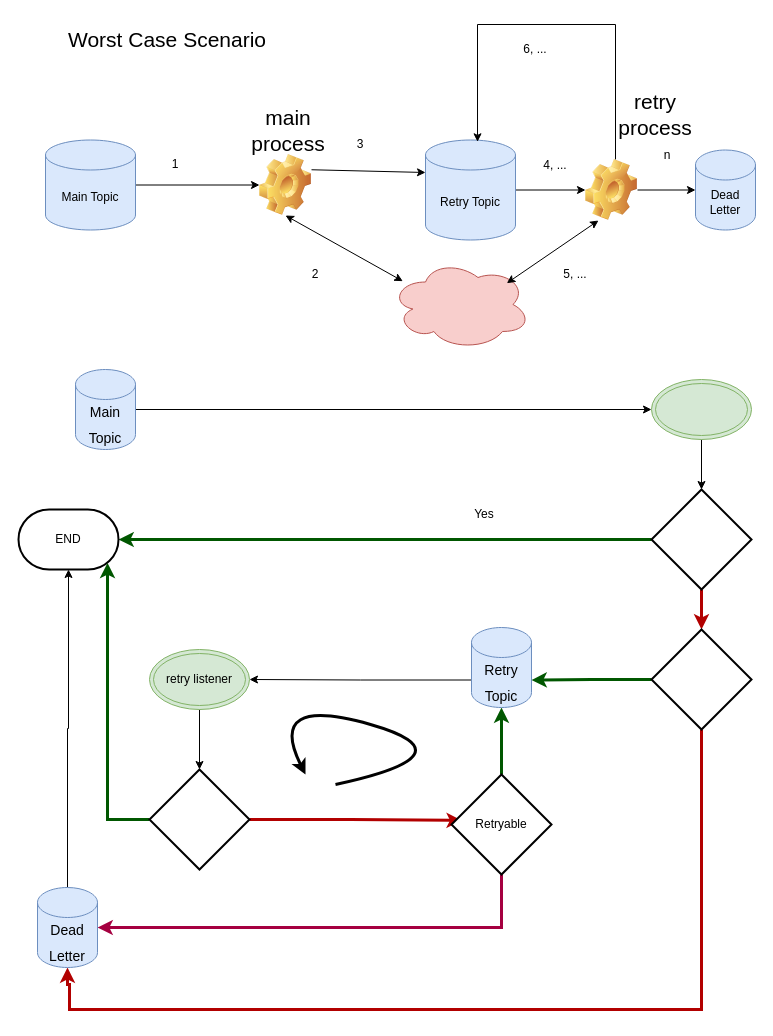
The diagram is 773 pixels wide and 1036 high, and some of its shapes have lost their labels. The shapes that lost their labels are listed below. From the top down, each one's box as (x1, y1, x2, y2) in pixels, then its label:
(390, 258, 530, 350): Third party service
(650, 378, 752, 440): main listener
(650, 488, 752, 590): success ?
(650, 628, 752, 730): Recoverable
(148, 768, 250, 870): success
